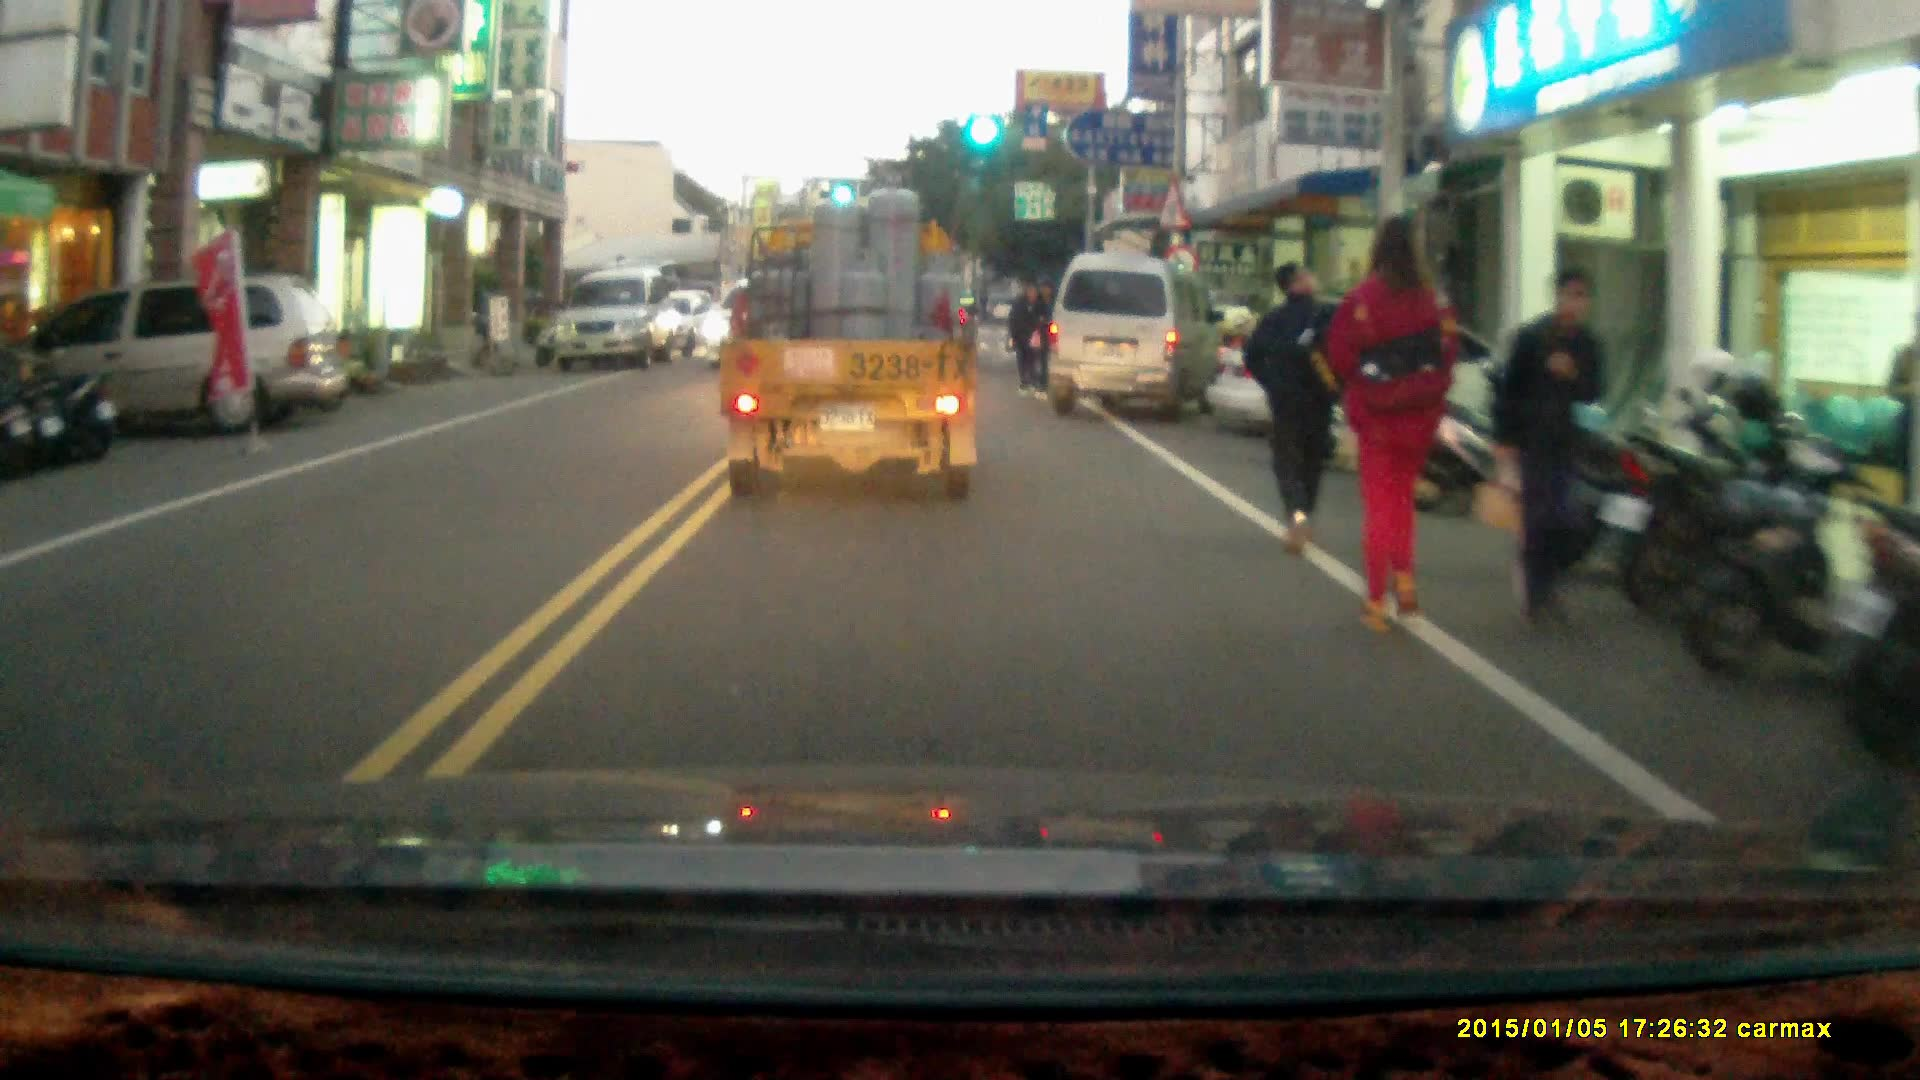pedestrian: (1326, 215, 1458, 628), (1491, 269, 1609, 641), (1242, 262, 1349, 556), (1008, 279, 1044, 398)
vehicle: (717, 169, 988, 509), (17, 275, 353, 445), (1048, 252, 1219, 419), (557, 269, 685, 375)
